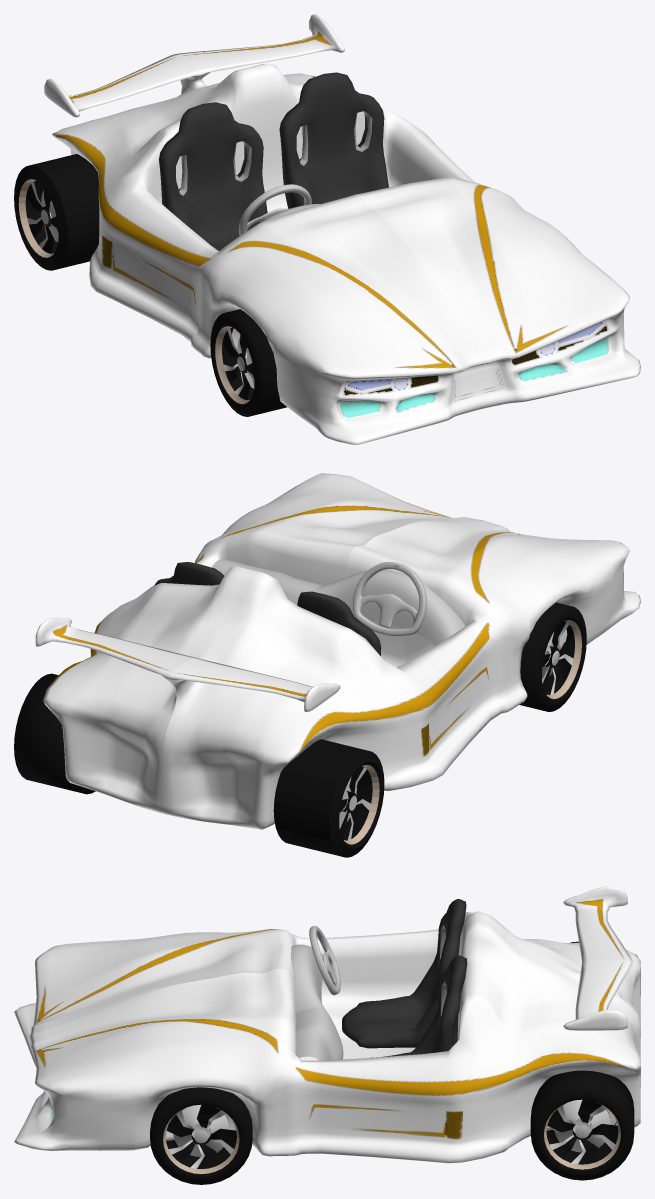
The model's file is Lowo ireng V1 2.fbx.
3 renders of one model, top to bottom at view 1: azimuth 30°, elevation 25°; view 2: azimuth 150°, elevation 25°; view 3: azimuth 270°, elevation 25°, orthographic. The views are drawn at different scales.
Parts seen in each view (by area): view 1: Cube.003, Cube.001, Cube.004, Cylinder.004, Cylinder.003, Cube; view 2: Cube.003, Cylinder.004, Cylinder.003, Plane, Cylinder.005, Cube, Cube.001, Cube.004; view 3: Cube.003, Cylinder.005, Cylinder.006, Cube.001, Plane, Cube.004, Cube.
Part boxes in pixels (box(x1,y1,x2,y2)): Cube.003: box(44, 14, 640, 444); Cube.001: box(159, 102, 267, 250); Cube.004: box(279, 72, 388, 208); Cylinder.004: box(14, 154, 99, 270); Cylinder.003: box(210, 309, 286, 416); Cube: box(238, 184, 311, 235); Cube.003: box(35, 473, 640, 829); Cylinder.004: box(273, 739, 384, 857); Cylinder.003: box(519, 602, 586, 711); Plane: box(212, 559, 465, 646); Cylinder.005: box(14, 673, 95, 794); Cube: box(353, 562, 426, 636); Cube.001: box(297, 591, 381, 655); Cube.004: box(154, 562, 224, 585); Cube.003: box(14, 886, 640, 1163); Cylinder.005: box(530, 1070, 634, 1180); Cylinder.006: box(150, 1087, 252, 1184); Cube.001: box(342, 899, 466, 1048); Plane: box(291, 944, 344, 1060); Cube.004: box(371, 955, 467, 1057); Cube: box(309, 926, 340, 995).
Size of what is drawn, in the model's own units: 652 by 360 by 1056.
